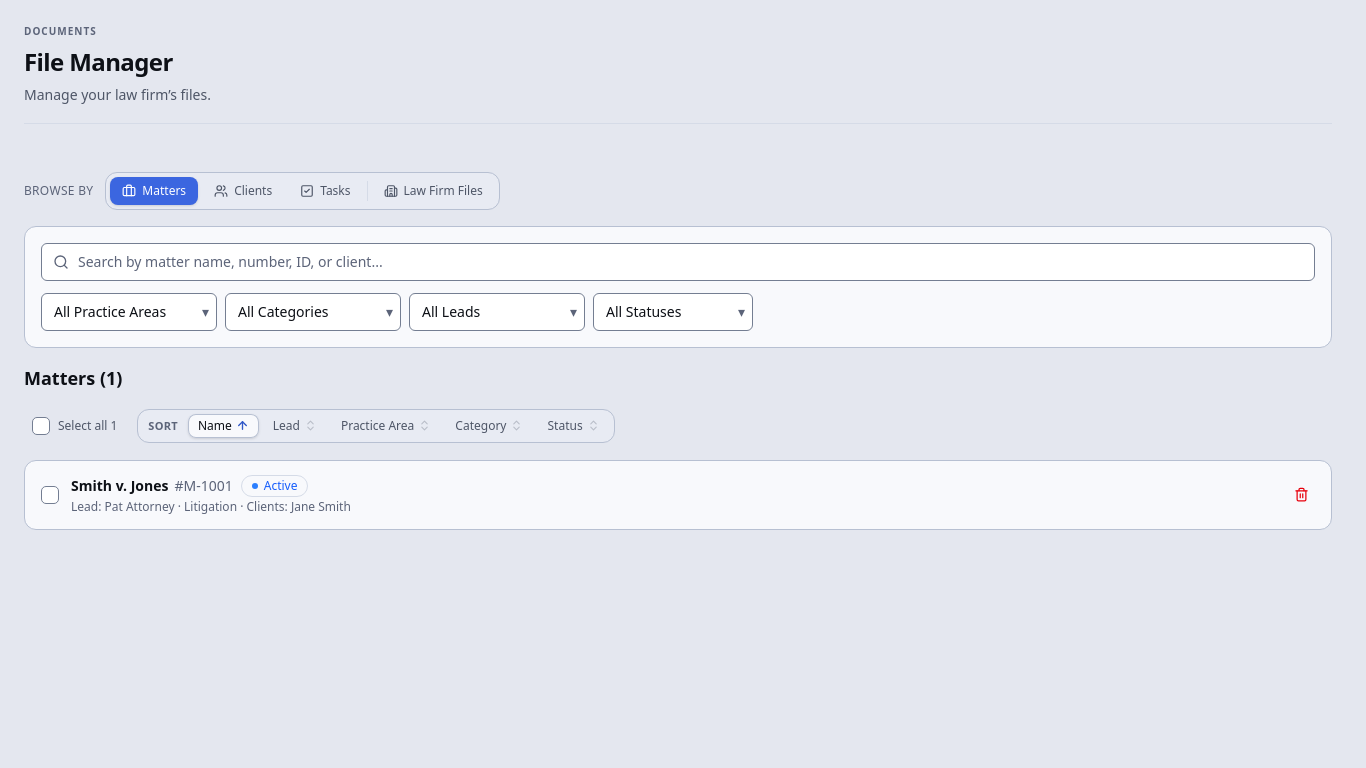
Test: permission gating: matter/task delete on the entity grids › shows the matter-delete action, and deletes, for a member with matters.delete
The width and height of the screenshot is (1366, 768).
Expected: the text "Smith v. Jones" is shown, [71,476,168,495]
Step 1. Click the button named "Delete" → (1302, 495), box [1288,481,1315,508]
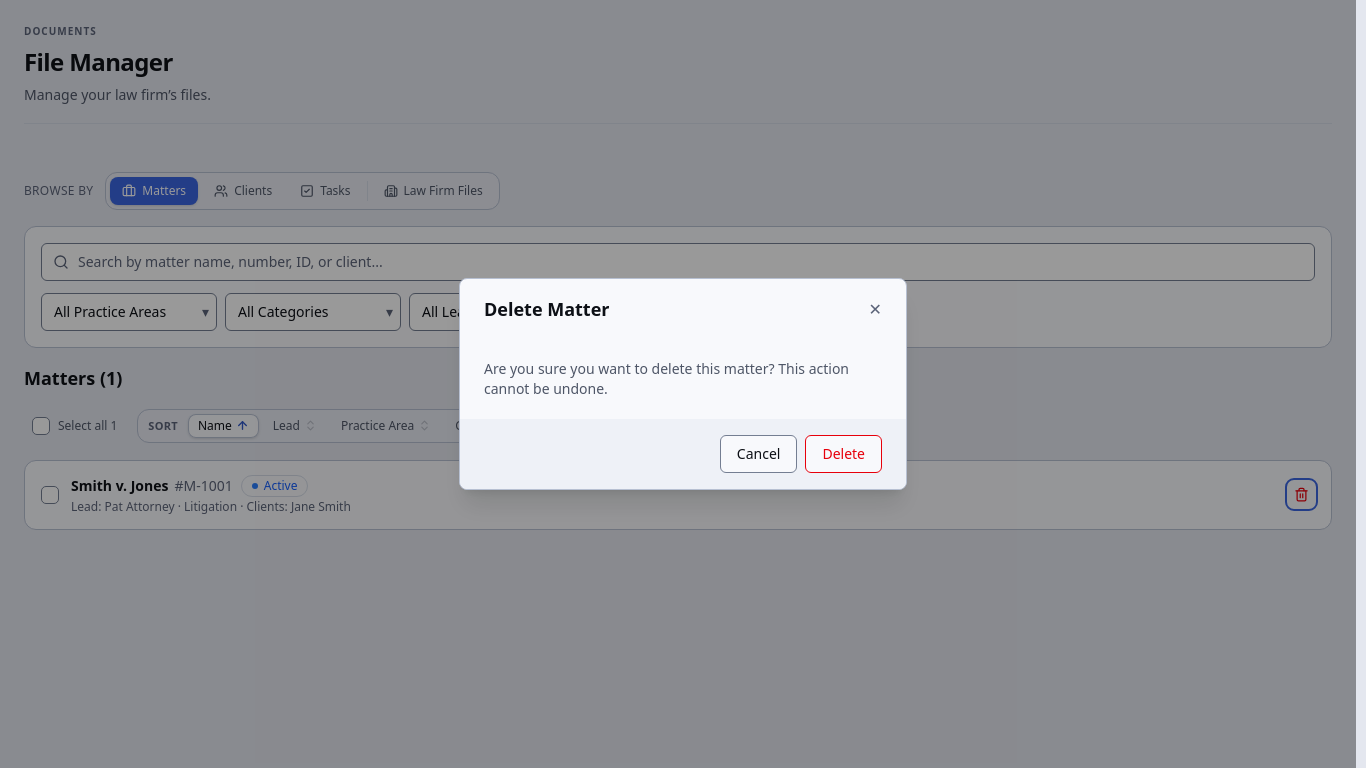
Step 2. Click the button "Delete" → (844, 454), box [805,435,882,473]
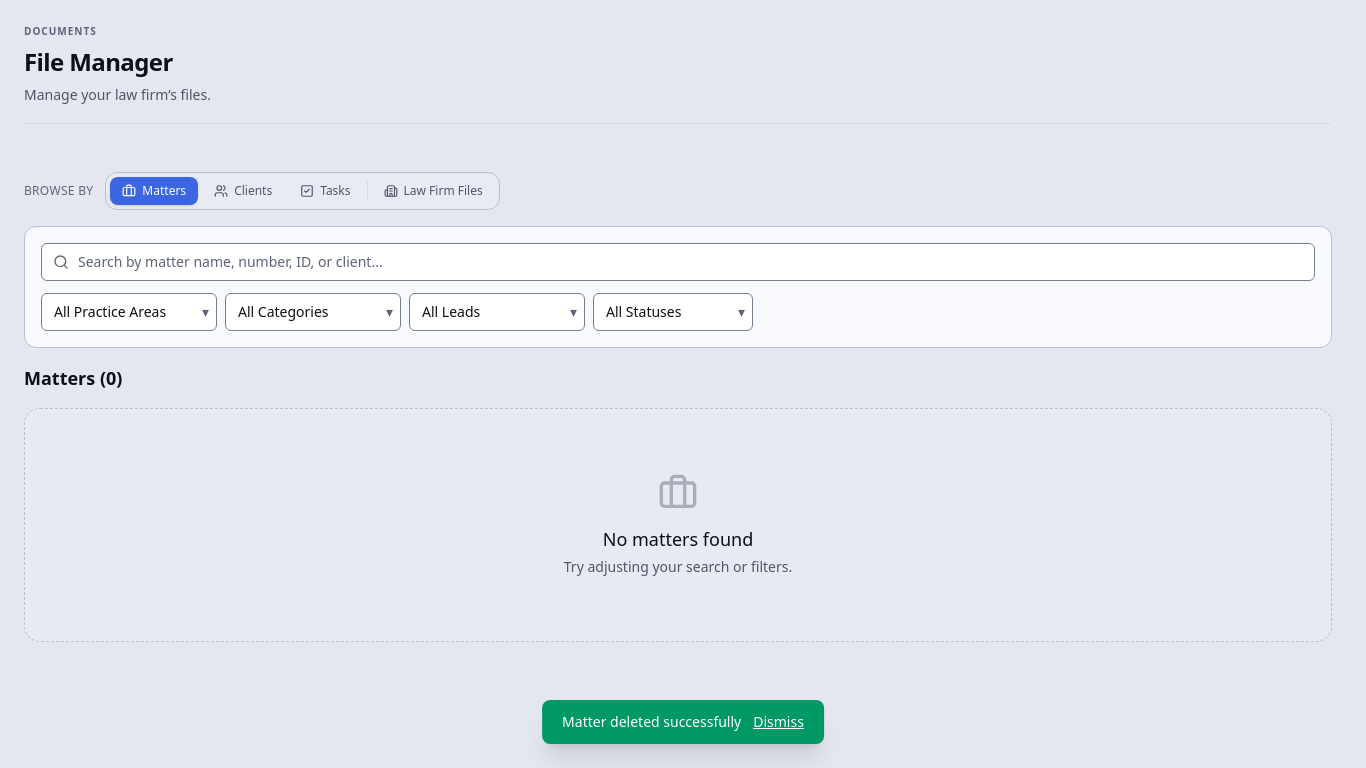
Result: the text "Smith v. Jones" is gone
